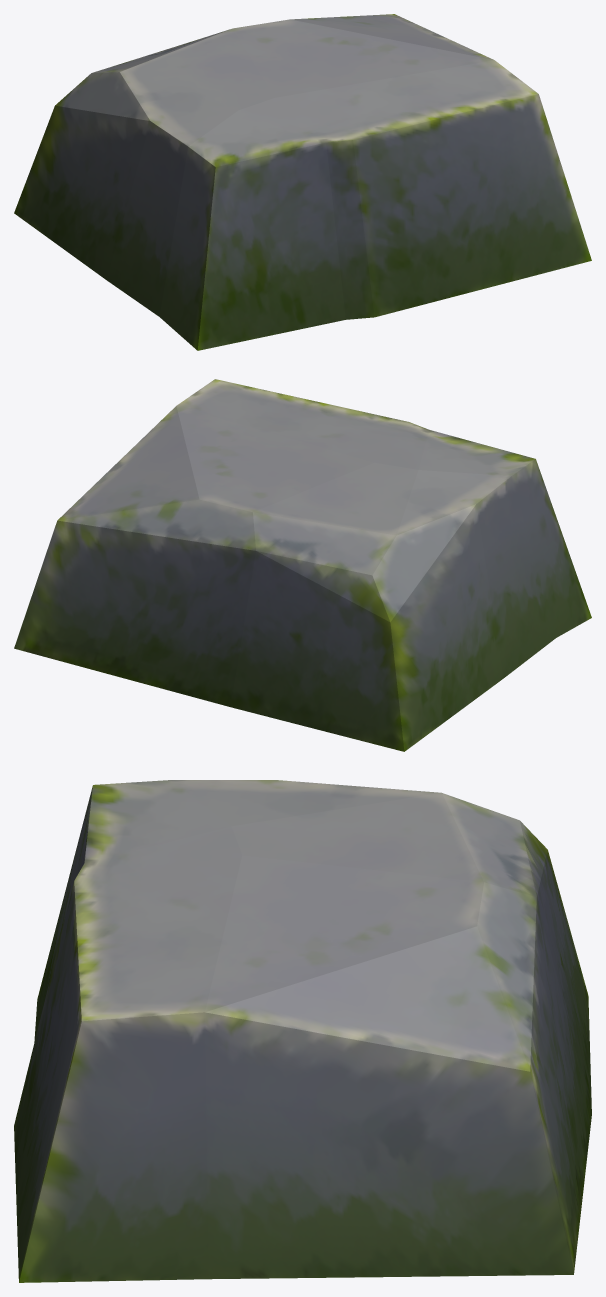
Rendered from Pebble_Square_3.glb.
3 views of the same model, one above another, from view 1: azimuth 30°, elevation 25°; view 2: azimuth 150°, elevation 25°; view 3: azimuth 270°, elevation 25° (orthographic). The views are drawn at different scales.
Visible parts, largest first — view 1: Pebble_Square_3; view 2: Pebble_Square_3; view 3: Pebble_Square_3.
Part boxes in pixels (x1=…): Pebble_Square_3: x1=14, y1=14, x2=591, y2=350; Pebble_Square_3: x1=14, y1=379, x2=591, y2=751; Pebble_Square_3: x1=14, y1=780, x2=591, y2=1282.
Size of the model in its own units: 0.3733 by 0.1589 by 0.3187.
Materials: 1 (1 with a texture image).
